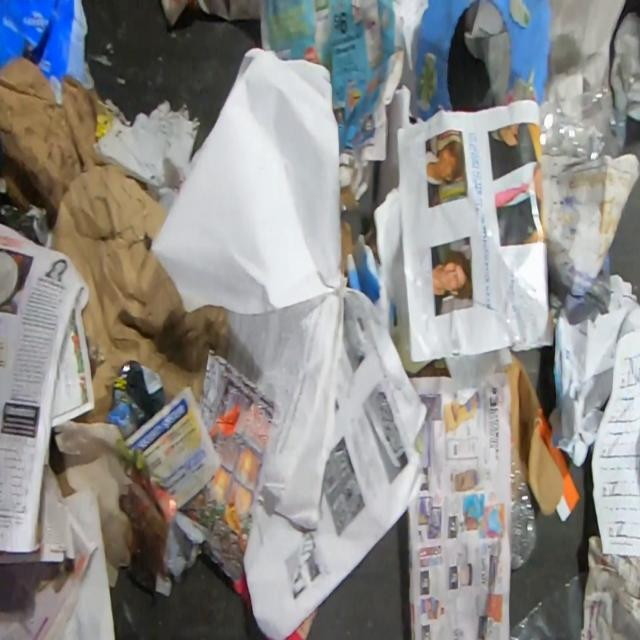cardboard: (503, 355, 581, 522), (0, 0, 94, 88)
rigid_plastic: (509, 444, 538, 571)
soft_plastic: (538, 86, 628, 163), (510, 570, 589, 639)
